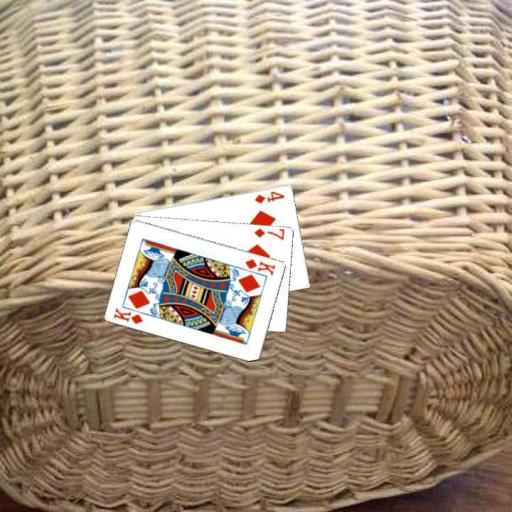4D: (252, 188, 286, 205)
7D: (251, 225, 286, 241)
KD: (242, 255, 277, 277), (110, 304, 145, 326)
